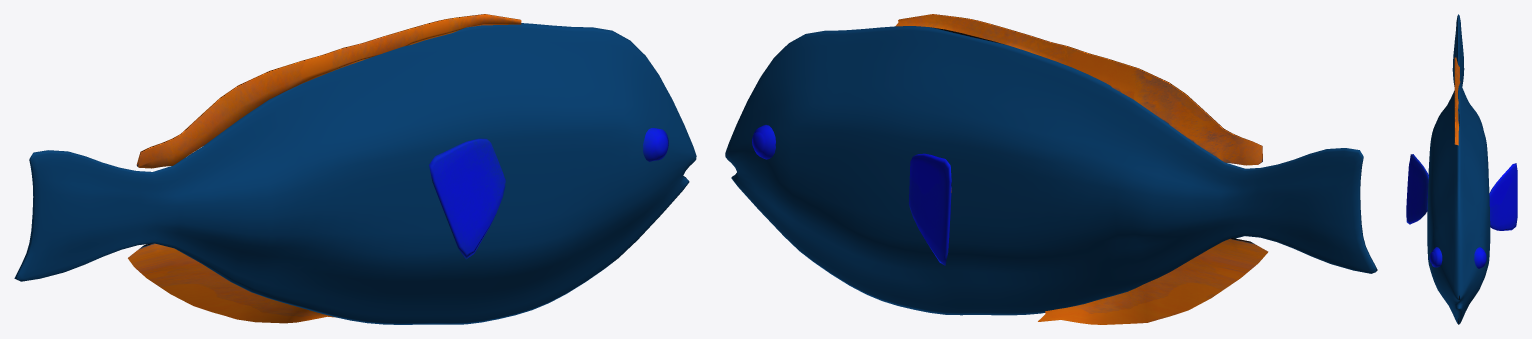
The model's file is poissonGatito.fbx.
The picture shows the model from 3 angles, left to right: view 1: azimuth 30°, elevation 25°; view 2: azimuth 150°, elevation 25°; view 3: azimuth 270°, elevation 25°; orthographic projection. The views are drawn at different scales.
Visible parts, largest first — view 1: cube, pPlane2, pPlane1, pPlane4, pSphere2; view 2: cube, pPlane2, pPlane1, pPlane3, pSphere1; view 3: cube, pPlane3, pPlane4, pPlane2, pSphere1, pSphere2.
Boxes of the visible parts, x1=… form: cube: x1=14, y1=23, x2=696, y2=324; pPlane2: x1=136, y1=14, x2=521, y2=168; pPlane1: x1=128, y1=243, x2=334, y2=323; pPlane4: x1=429, y1=138, x2=505, y2=259; pSphere2: x1=643, y1=128, x2=668, y2=161; cube: x1=725, y1=26, x2=1377, y2=315; pPlane2: x1=895, y1=14, x2=1262, y2=165; pPlane1: x1=1038, y1=238, x2=1268, y2=324; pPlane3: x1=909, y1=153, x2=951, y2=265; pSphere1: x1=752, y1=125, x2=775, y2=159; cube: x1=1427, y1=14, x2=1490, y2=324; pPlane3: x1=1489, y1=163, x2=1517, y2=230; pPlane4: x1=1406, y1=154, x2=1428, y2=224; pPlane2: x1=1454, y1=57, x2=1460, y2=145; pSphere1: x1=1474, y1=247, x2=1486, y2=268; pSphere2: x1=1429, y1=247, x2=1442, y2=267.
Bounding box in the file's own units: 33.47 × 14.84 × 8.18.
